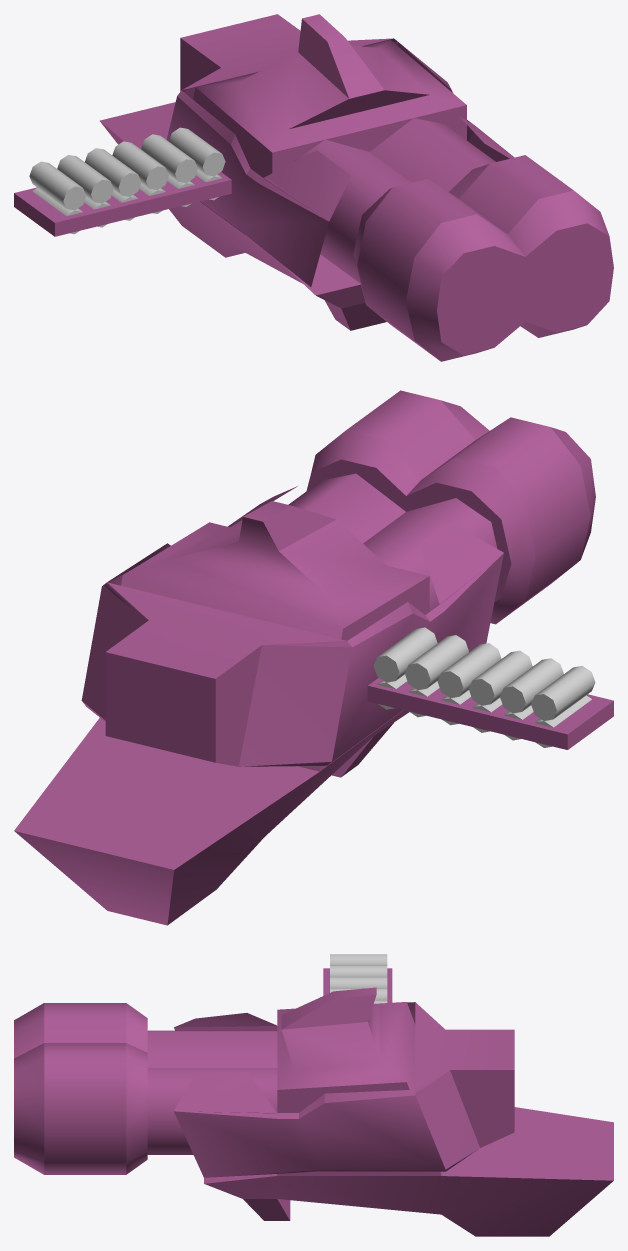
File: scattergun.obj
3 views of the same model, one above another, from view 1: azimuth 30°, elevation 25°; view 2: azimuth 150°, elevation 25°; view 3: azimuth 270°, elevation 25° (orthographic). The views are drawn at different scales.
Parts seen in each view (by area): view 1: scatter; view 2: scatter; view 3: scatter.
Boxes of the visible parts, x1,y1,x2,y2 form: scatter: (14,14,613,361); scatter: (14,390,613,925); scatter: (14,954,613,1236).
Size of the model in its own units: 1.4 by 0.9338 by 2.16.
